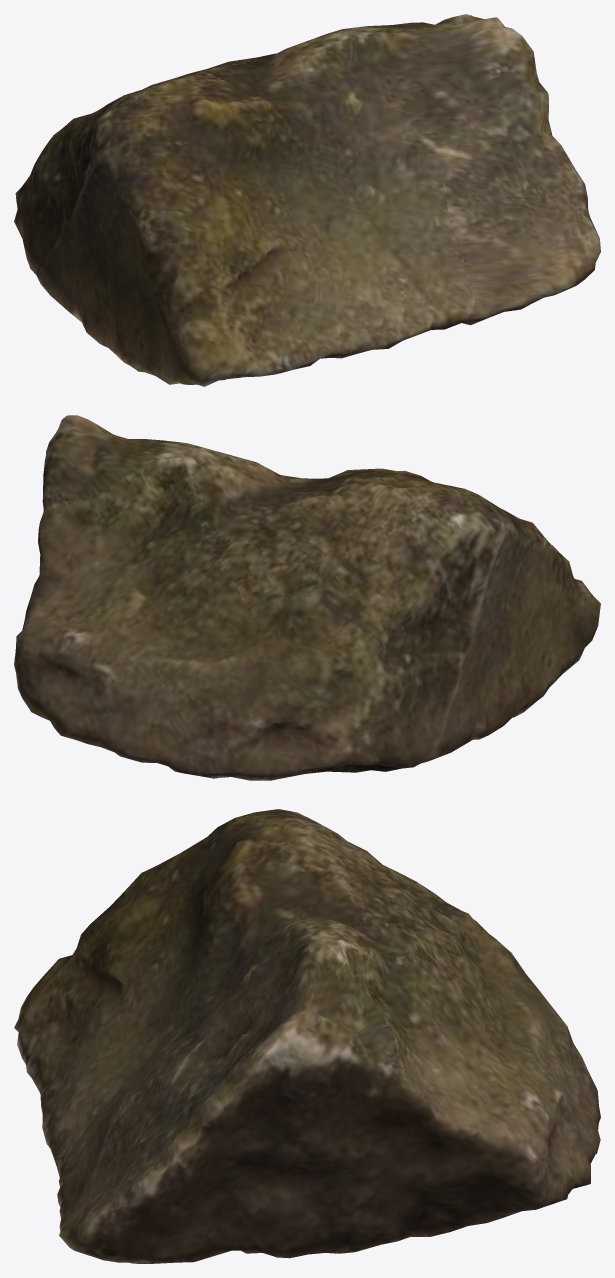
Rendered from boulder_2.glb.
3 renders of one model, top to bottom at view 1: azimuth 30°, elevation 25°; view 2: azimuth 150°, elevation 25°; view 3: azimuth 270°, elevation 25°, orthographic. The views are drawn at different scales.
Size of the model in its own units: 2.11 by 1.1 by 2.08.
Materials: 1 (1 with a texture image).
